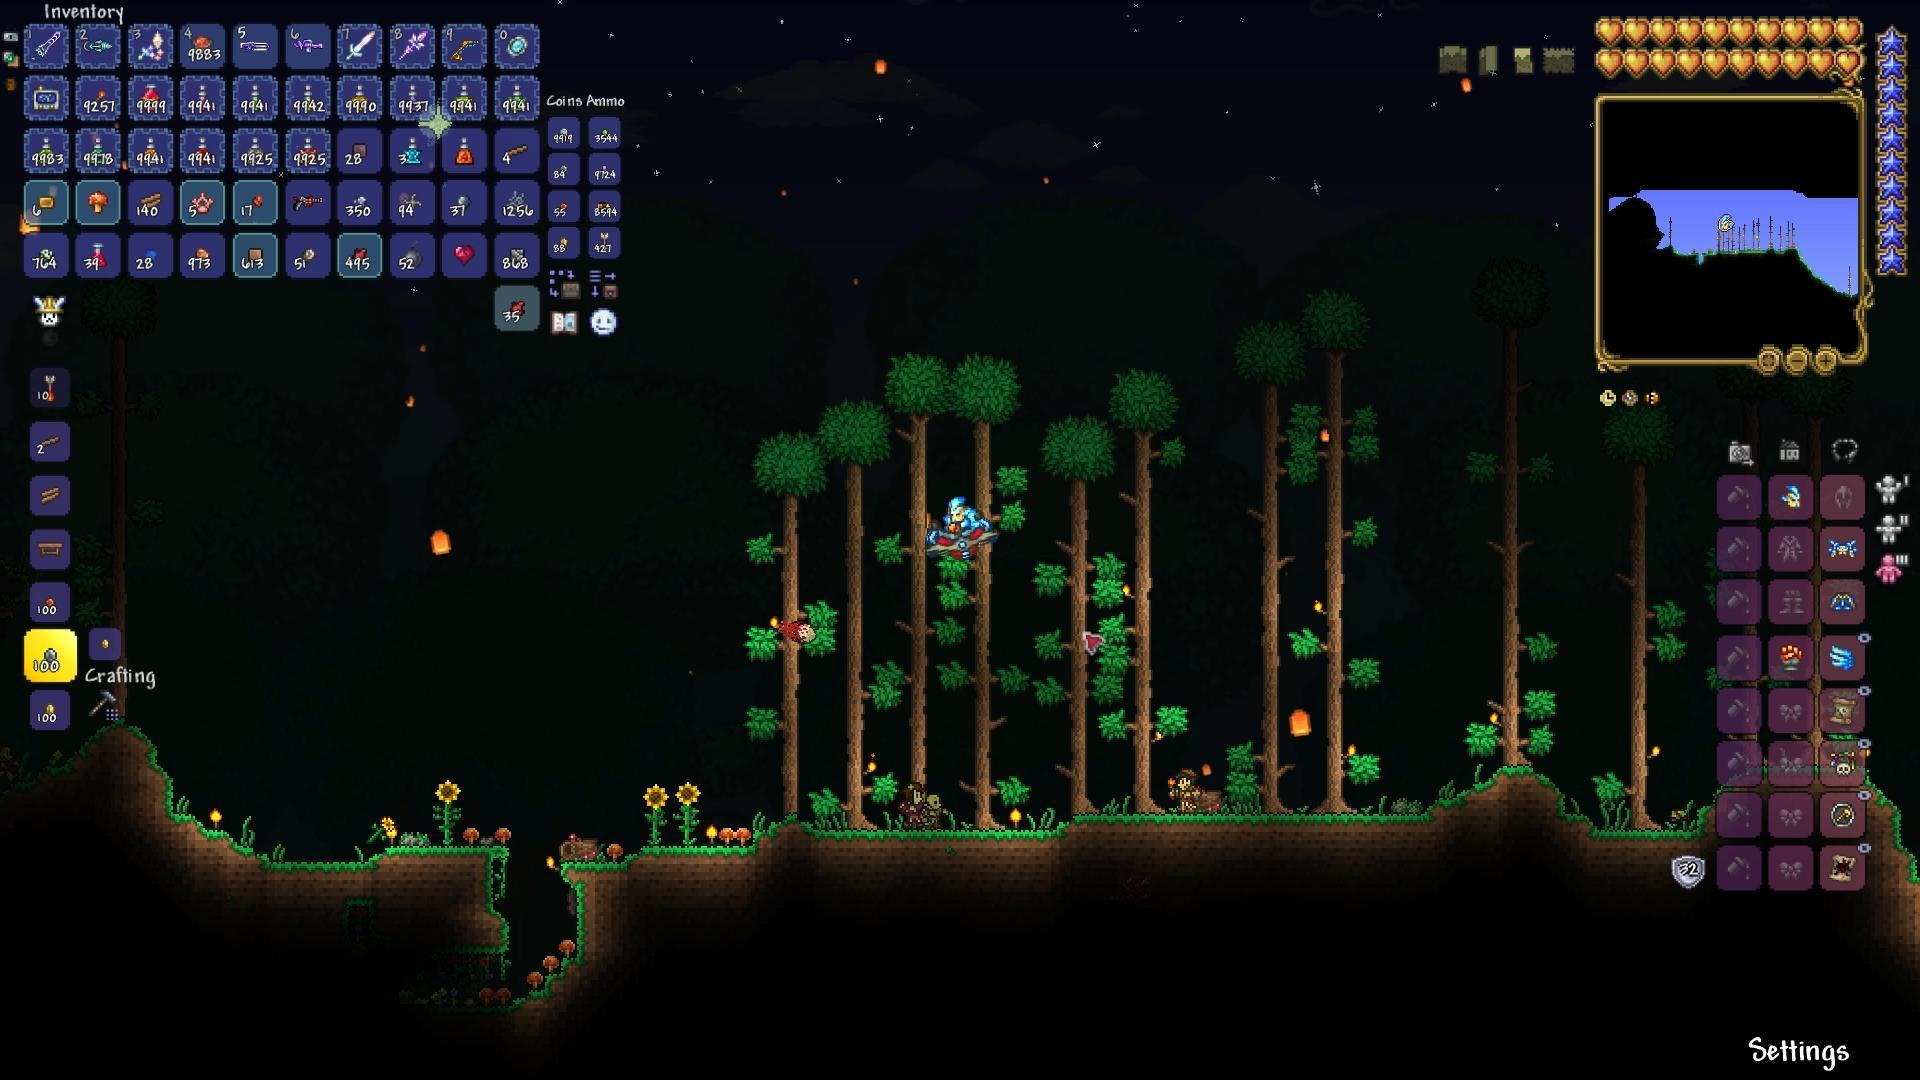eye: (774, 612, 819, 650)
mirror: (502, 33, 529, 62)
